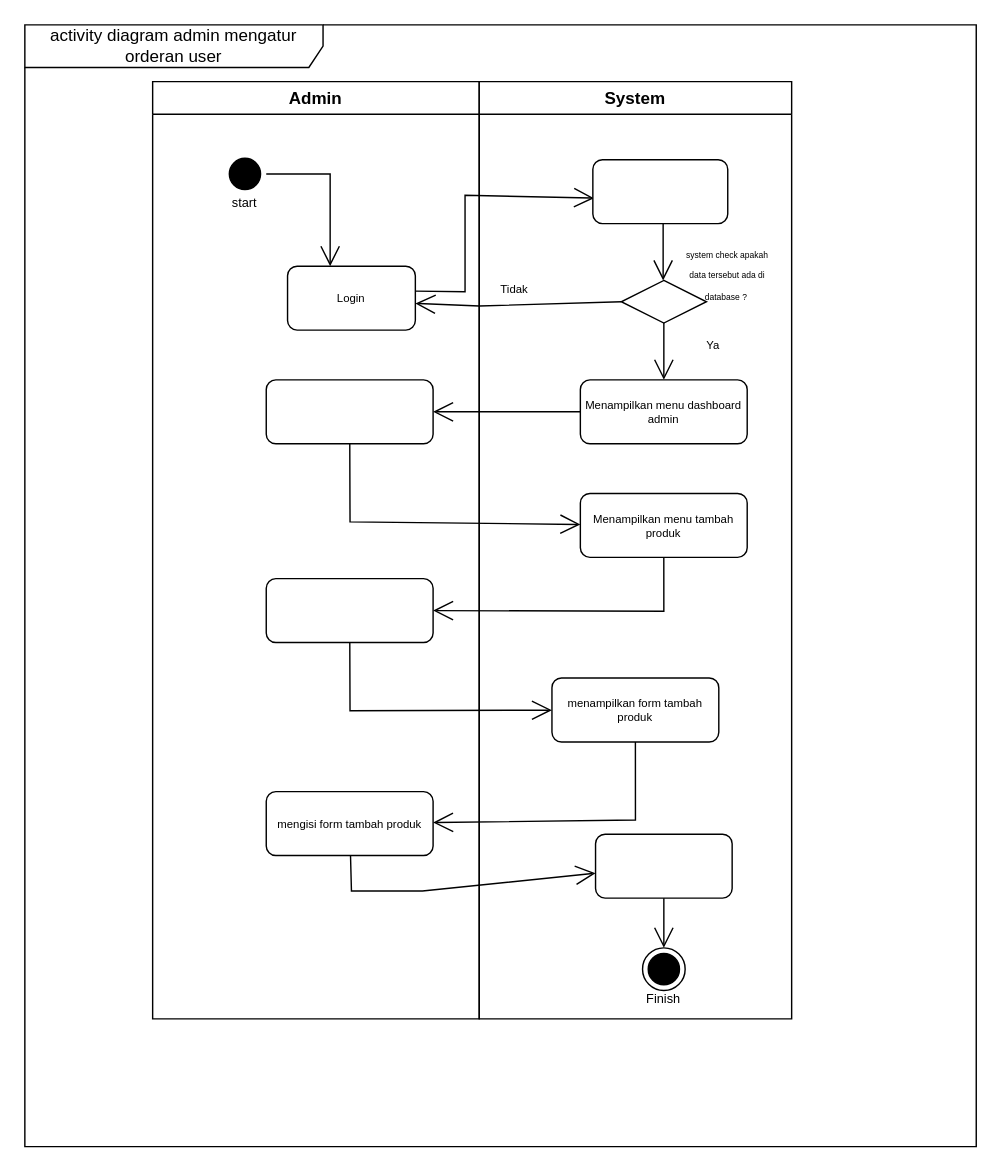
Some shapes in this 1001 by 1172 pixel diagram are drawn without their labels. The centre of each missing label's shape, as x and y in pixels:
Muncul notifikasi, "tambah produk berhasil": point (663, 865)
pilih button tambah produk: point (349, 610)
pilih menu tambah produk: point (349, 411)
Verifikasi: point (659, 191)
